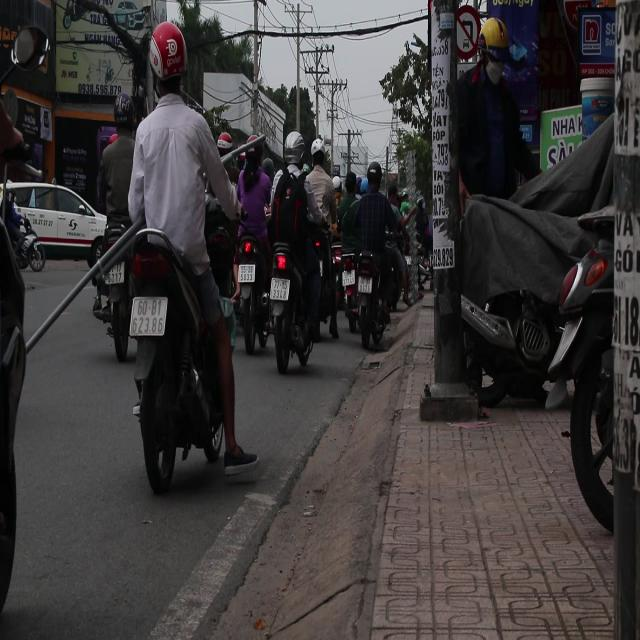car: (2, 183, 112, 265)
motorbike: (122, 222, 238, 469), (269, 226, 320, 373), (341, 246, 395, 350)
